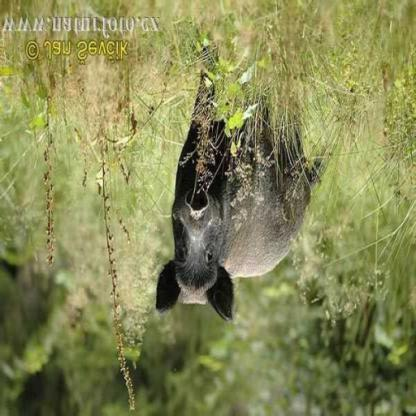boar: (147, 62, 333, 345)
